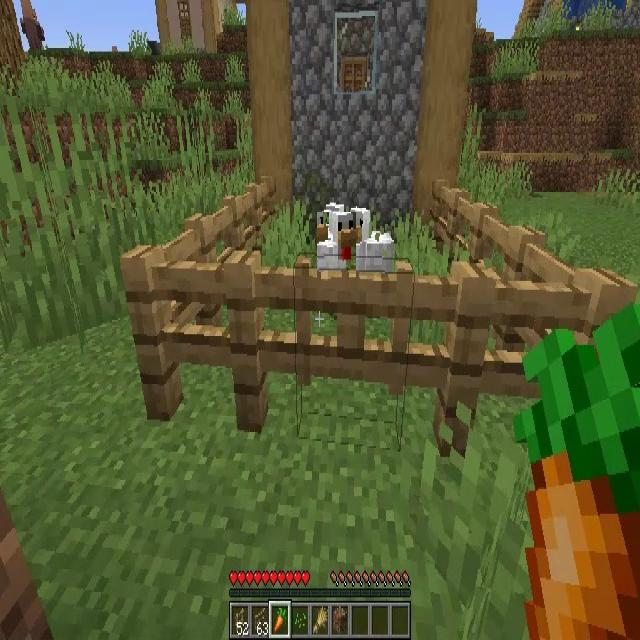duck: (347, 211, 394, 279), (317, 212, 356, 291)
